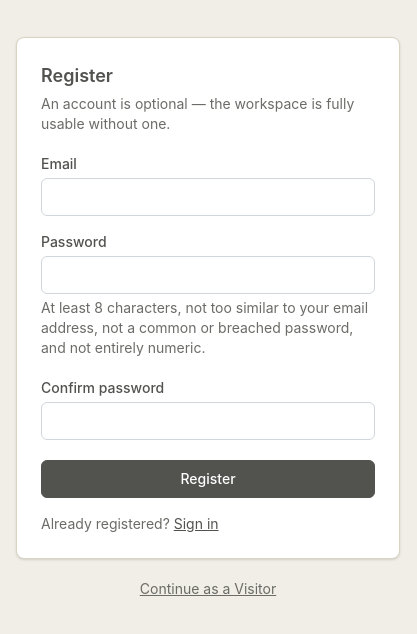
Test: SignupPage › blocks submission and reports the mismatch when the passwords differ
Type "visitor@example.com" into the field labelled "Email" at (208, 197), box [41,178,375,216]
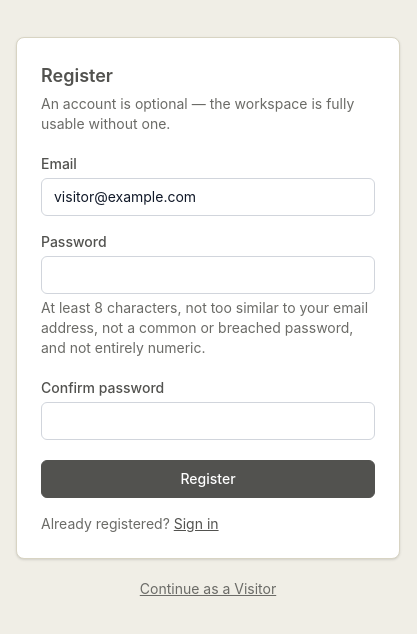
Type "correct-horse" into the password field labelled "Password" at (208, 275), box [41,256,375,294]
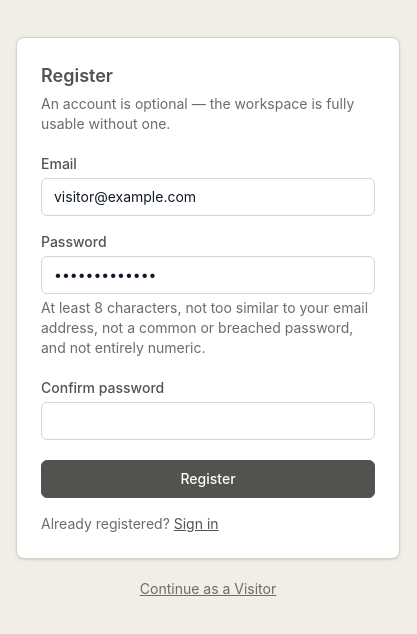
Type "wrong-horse" into the password field labelled "Confirm password" at (208, 421), box [41,402,375,440]
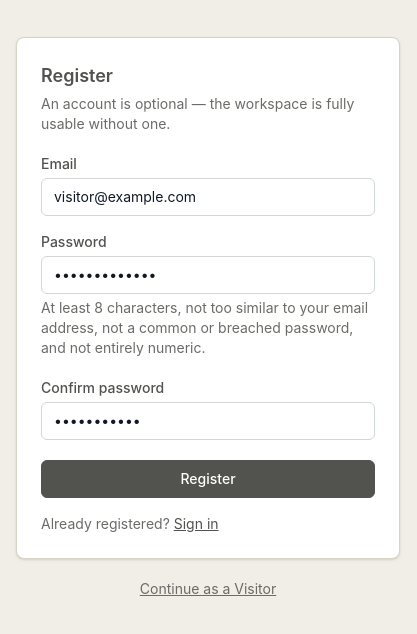
Click the button "Register" at (208, 479), box [41,460,375,498]
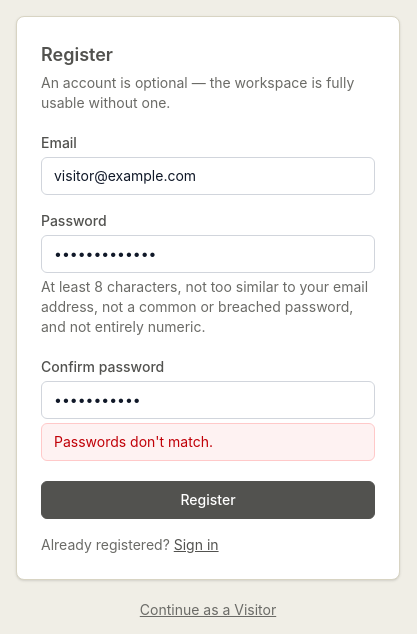
Expected: the message shows "don't match", [54,433,213,450]
